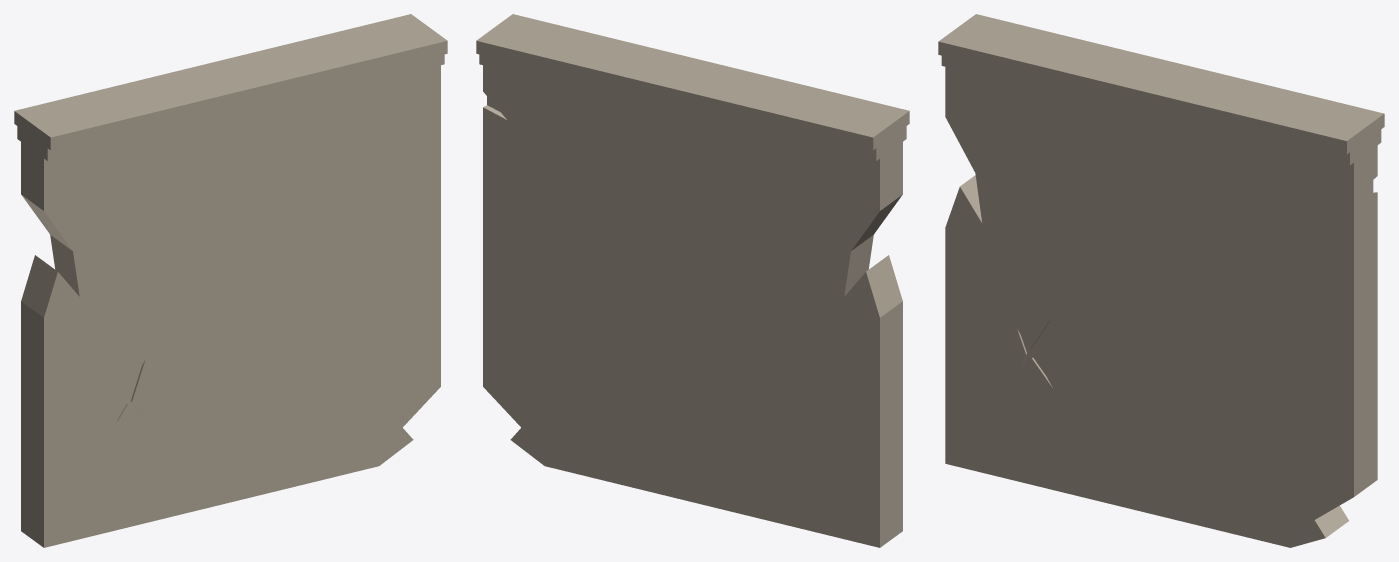
File: Village_Broken_Plaster_Wall_B.fbx
3 views of the same model, side by side, from view 1: azimuth 30°, elevation 25°; view 2: azimuth 150°, elevation 25°; view 3: azimuth 330°, elevation 25° (orthographic). The views are drawn at different scales.
Parts seen in each view (by area): view 1: Village_Wall_2m_Roof_A.283; view 2: Village_Wall_2m_Roof_A.283; view 3: Village_Wall_2m_Roof_A.283.
Boxes of the visible parts, x1,y1,x2,y2 form: Village_Wall_2m_Roof_A.283: (14,14,447,547); Village_Wall_2m_Roof_A.283: (476,14,909,547); Village_Wall_2m_Roof_A.283: (938,14,1384,547).
Size of the model in its own units: 200 by 200 by 31.91.
